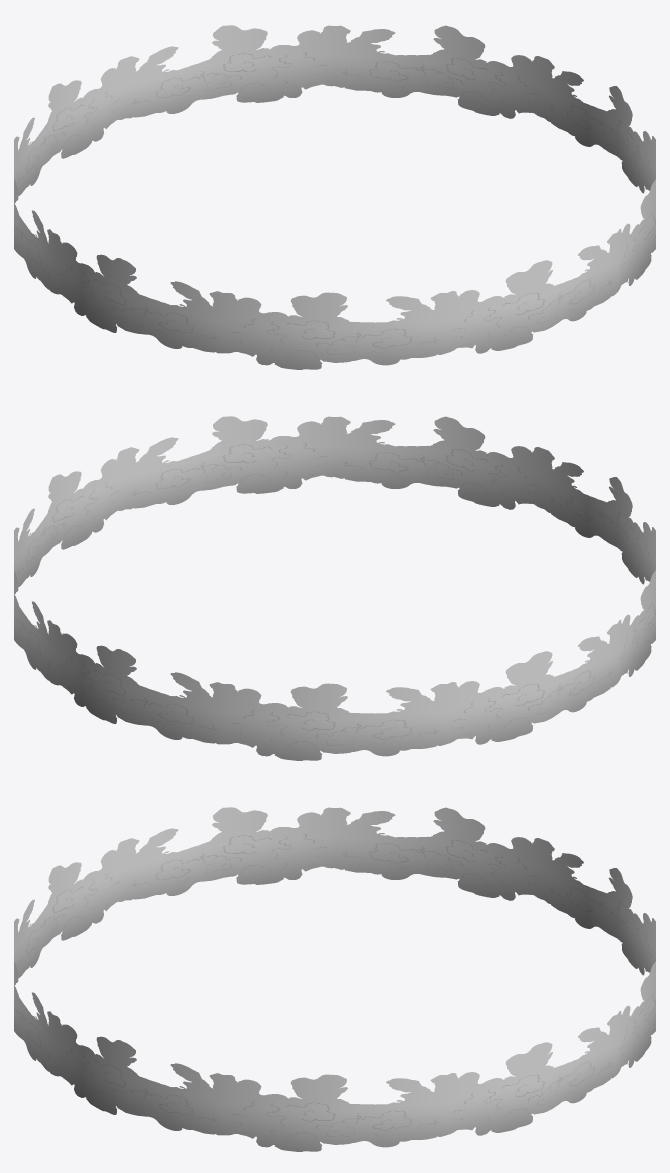
The model's file is Clouds.FBX.
3 renders of one model, top to bottom at view 1: azimuth 30°, elevation 25°; view 2: azimuth 150°, elevation 25°; view 3: azimuth 270°, elevation 25°, orthographic.
Parts seen in each view (by area): view 1: Cylinder001; view 2: Cylinder001; view 3: Cylinder001.
Boxes of the visible parts, x1,y1,x2,y2 form: Cylinder001: (14, 25, 655, 369); Cylinder001: (14, 416, 655, 760); Cylinder001: (14, 807, 655, 1151).
Bounding box in the file's own units: 413 × 60.99 × 406.
